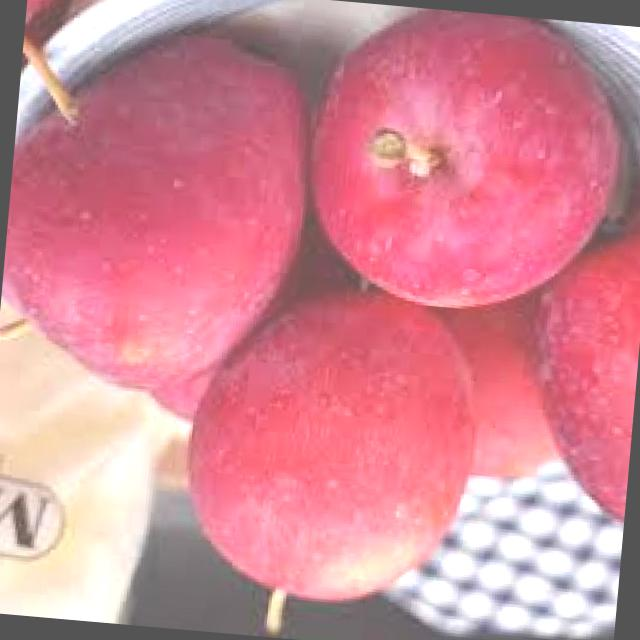Apple: (0, 19, 323, 407), (172, 277, 489, 640), (298, 2, 636, 324), (515, 183, 640, 533), (440, 296, 576, 486), (142, 359, 218, 425)
